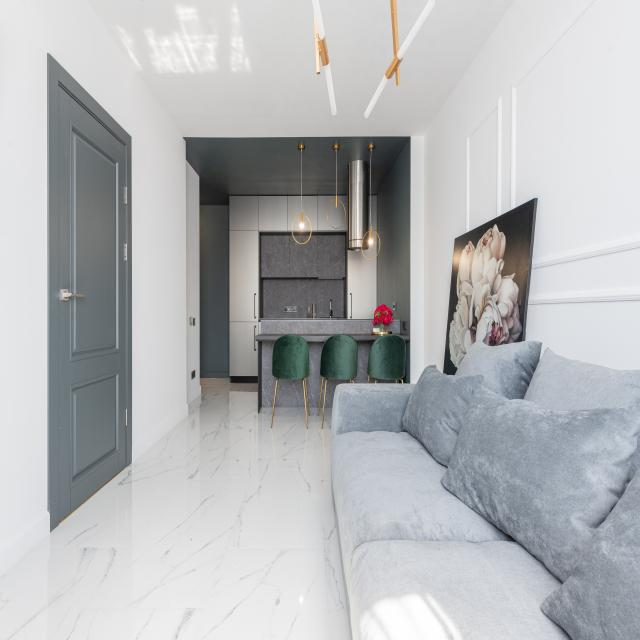floor: (0, 378, 352, 640)
wall: (423, 0, 640, 373), (377, 137, 411, 384), (199, 205, 230, 378), (258, 230, 347, 278), (258, 277, 348, 322), (186, 159, 201, 405), (410, 136, 423, 384), (292, 231, 311, 243), (377, 234, 380, 255)
